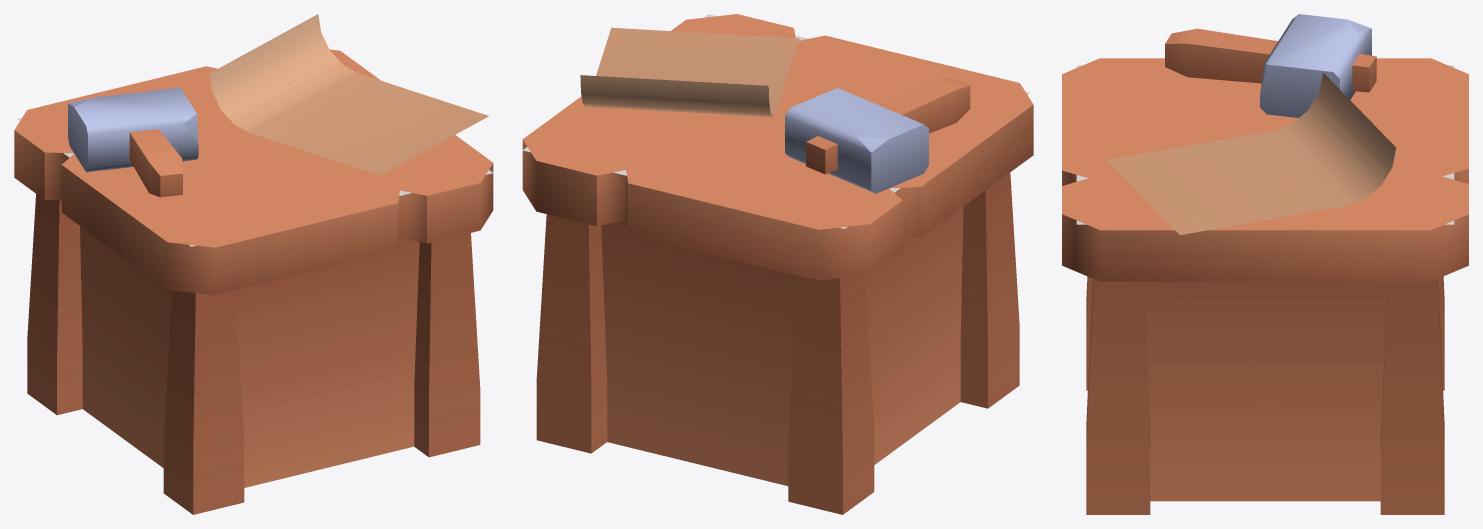
Rendered from f_workbench.glb.
3 views of the same model, side by side, from view 1: azimuth 30°, elevation 25°; view 2: azimuth 150°, elevation 25°; view 3: azimuth 270°, elevation 25° (orthographic). The views are drawn at different scales.
Parts seen in each view (by area): view 1: model; view 2: model; view 3: model.
Part boxes in pixels (left/top/right/bottom): model: left=14, top=14, right=493, bottom=514; model: left=522, top=14, right=1033, bottom=514; model: left=1062, top=14, right=1468, bottom=514.
Bounding box in the file's own units: 0.95 × 0.836 × 0.8625.
1 material, 1 textured.
